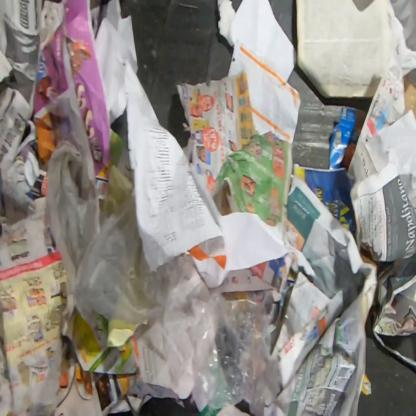cardboard: (328, 106, 361, 171), (403, 68, 415, 123)
soft_plastic: (45, 139, 194, 348), (162, 291, 282, 416)
